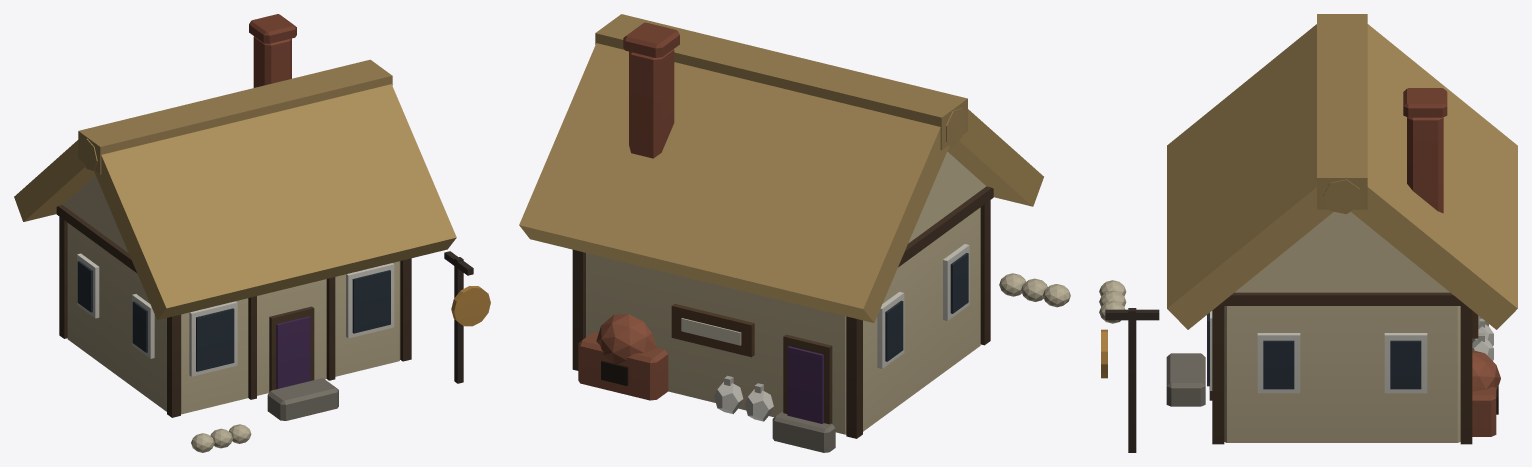
Rendered from bakery.glb.
The picture shows the model from 3 angles, left to right: view 1: azimuth 30°, elevation 25°; view 2: azimuth 150°, elevation 25°; view 3: azimuth 270°, elevation 25°; orthographic projection. The views are drawn at different scales.
Parts seen in each view (by area): view 1: bakery_model; view 2: bakery_model; view 3: bakery_model.
Boxes of the visible parts, <box> form: bakery_model: <box>14,14,490,452</box>; bakery_model: <box>519,14,1070,452</box>; bakery_model: <box>1099,14,1517,452</box>.
Bounding box in the file's own units: 0.81 × 0.758 × 0.8572.
